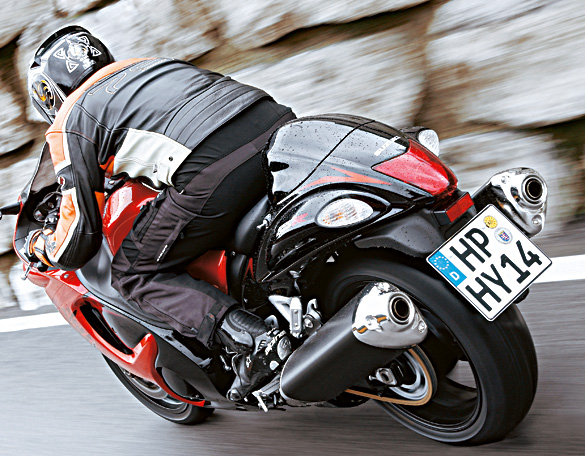tablica: (431, 213, 553, 320)
